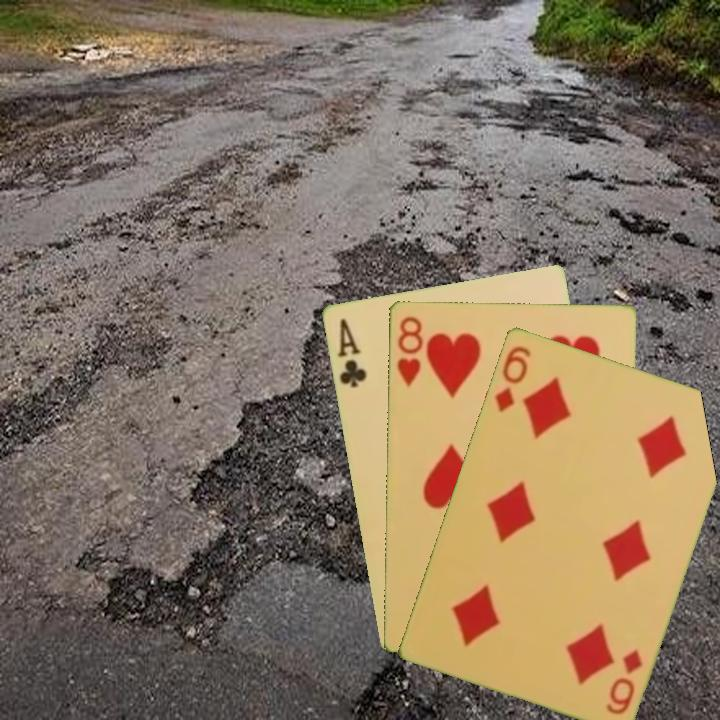6d: (491, 342, 534, 415), (602, 644, 645, 717)
8h: (393, 313, 425, 389)
Ac: (333, 315, 369, 391)
